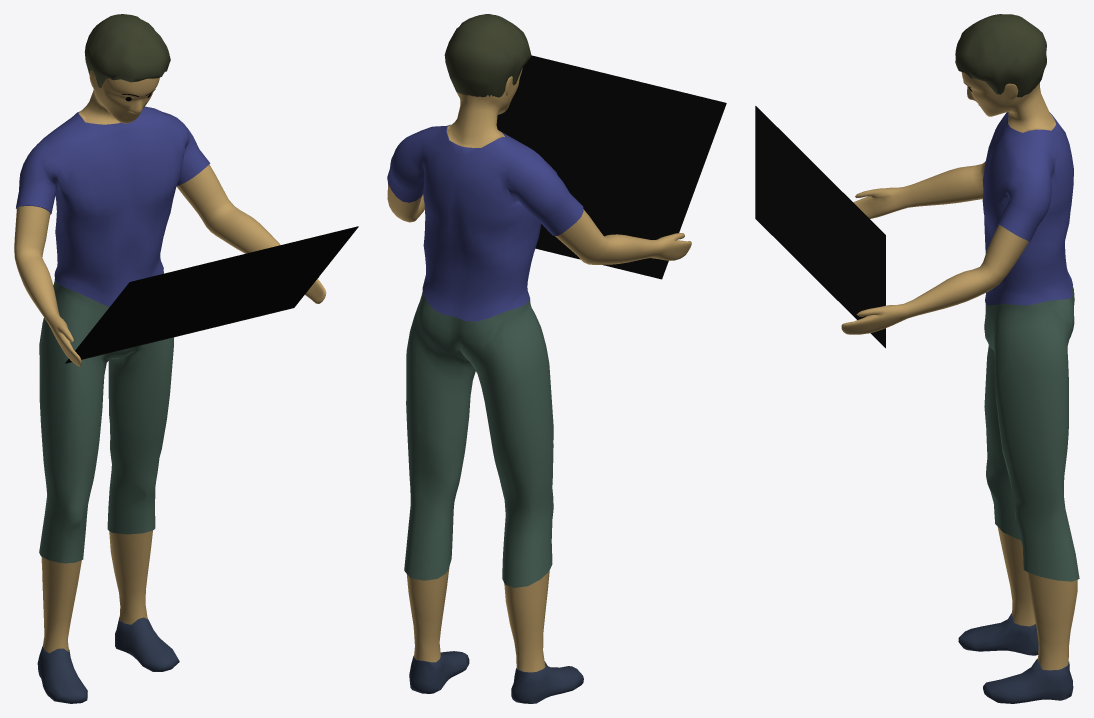
Rendered from Male-Viewing-Plans.glb.
3 renders of one model, left to right at view 1: azimuth 30°, elevation 25°; view 2: azimuth 150°, elevation 25°; view 3: azimuth 270°, elevation 25°, orthographic.
Visible parts, largest first — view 1: Male-Viewing-Plans, Plane; view 2: Male-Viewing-Plans, Plane; view 3: Male-Viewing-Plans, Plane.
Part boxes in pixels (box(x1,y1,x2,y2)): Male-Viewing-Plans: box(14, 14, 326, 703); Plane: box(65, 226, 358, 363); Male-Viewing-Plans: box(387, 14, 691, 703); Plane: box(496, 55, 726, 279); Male-Viewing-Plans: box(841, 14, 1079, 703); Plane: box(755, 106, 885, 348).
Bounding box in the file's own units: 0.6854 × 1.69 × 0.7512.
